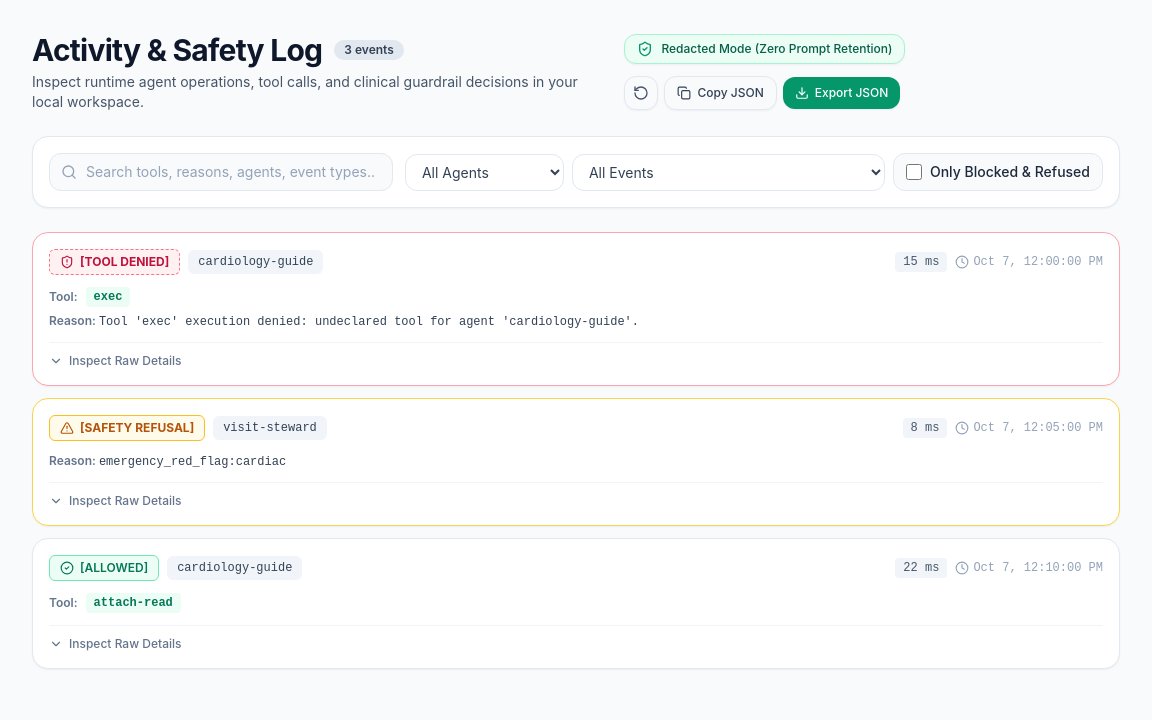
ActivityClient Page Component (apps/web/src/app/activity/ActivityClient.tsx) › filters events with agent selector and search query
Type "cardiac" into the field with test id "audit-search-input" at (221, 172), box [49, 153, 393, 191]
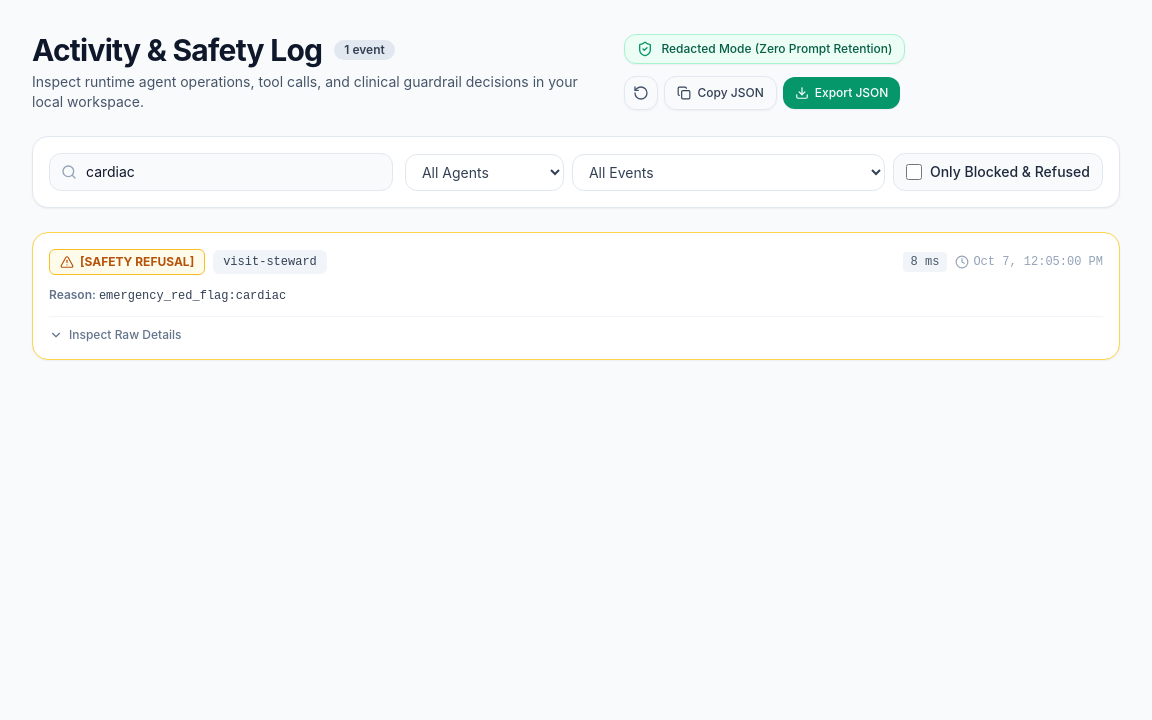
Check: the text "emergency_red_flag:cardiac" is shown, box [99, 289, 286, 303]
Check: the number of elements with test id "audit-event-card" is 1, box [32, 232, 1120, 360]
